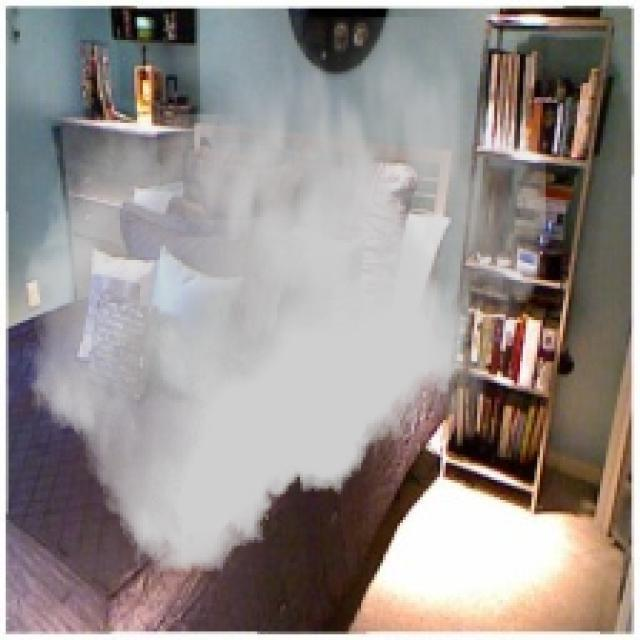Smoke: (23, 17, 546, 572)
